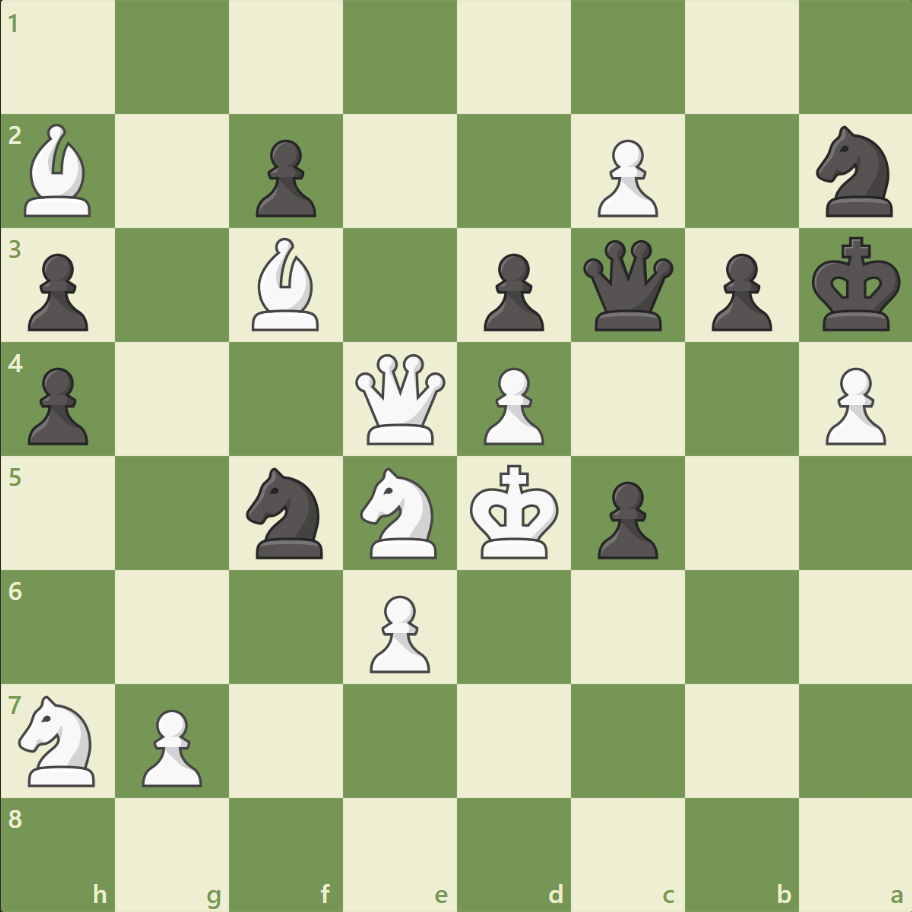B: (244, 233, 328, 336), (17, 120, 101, 222)
K: (465, 458, 565, 566)
N: (351, 461, 449, 564), (11, 688, 108, 791)
P: (133, 700, 208, 791), (474, 359, 549, 450), (361, 586, 435, 677), (815, 359, 889, 450), (588, 132, 662, 223)
Q: (351, 349, 450, 449)
k: (806, 231, 906, 339)
n: (238, 461, 335, 564), (806, 121, 903, 223)
p: (20, 359, 95, 450), (701, 246, 776, 337), (474, 246, 549, 337), (20, 246, 95, 337), (247, 132, 322, 223), (588, 473, 662, 564)
q: (578, 236, 677, 335)
